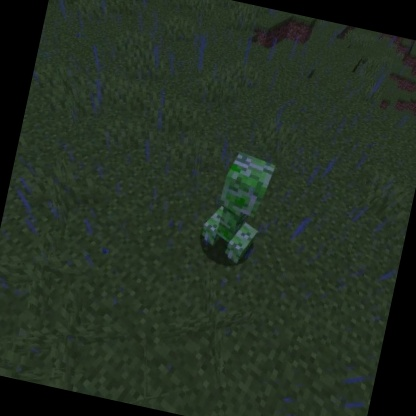creeper: (192, 144, 282, 273)
